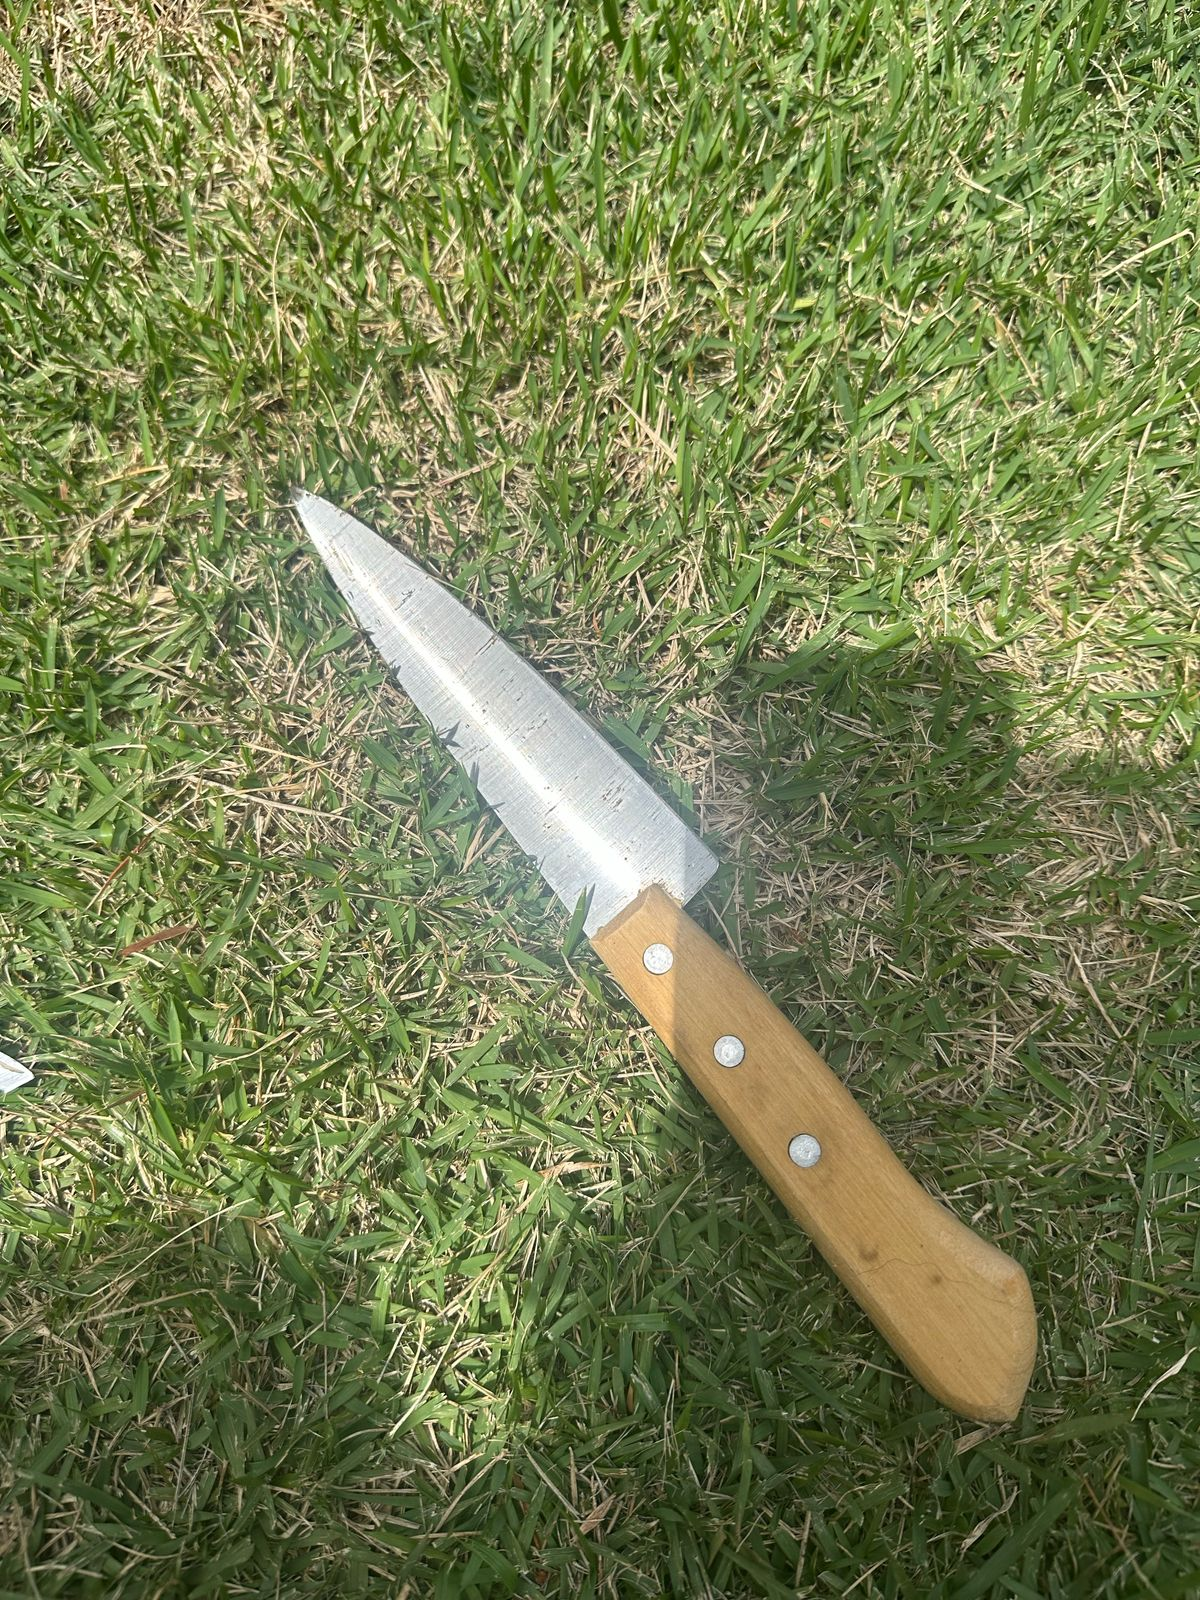faca: (257, 457, 1042, 1436)
